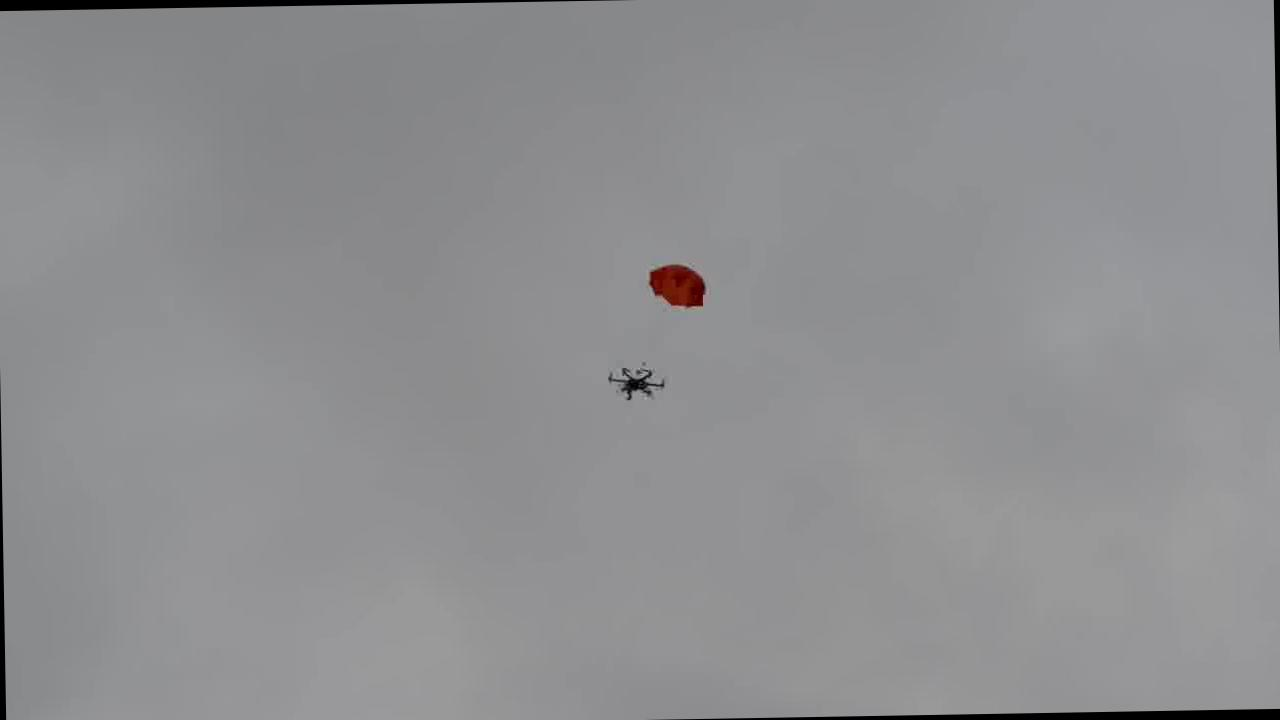drone: (603, 356, 670, 406)
